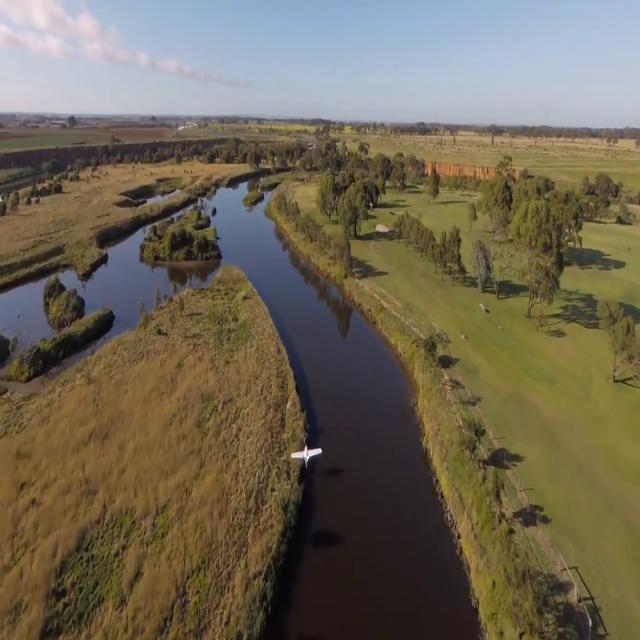iha: (287, 438, 323, 464)
